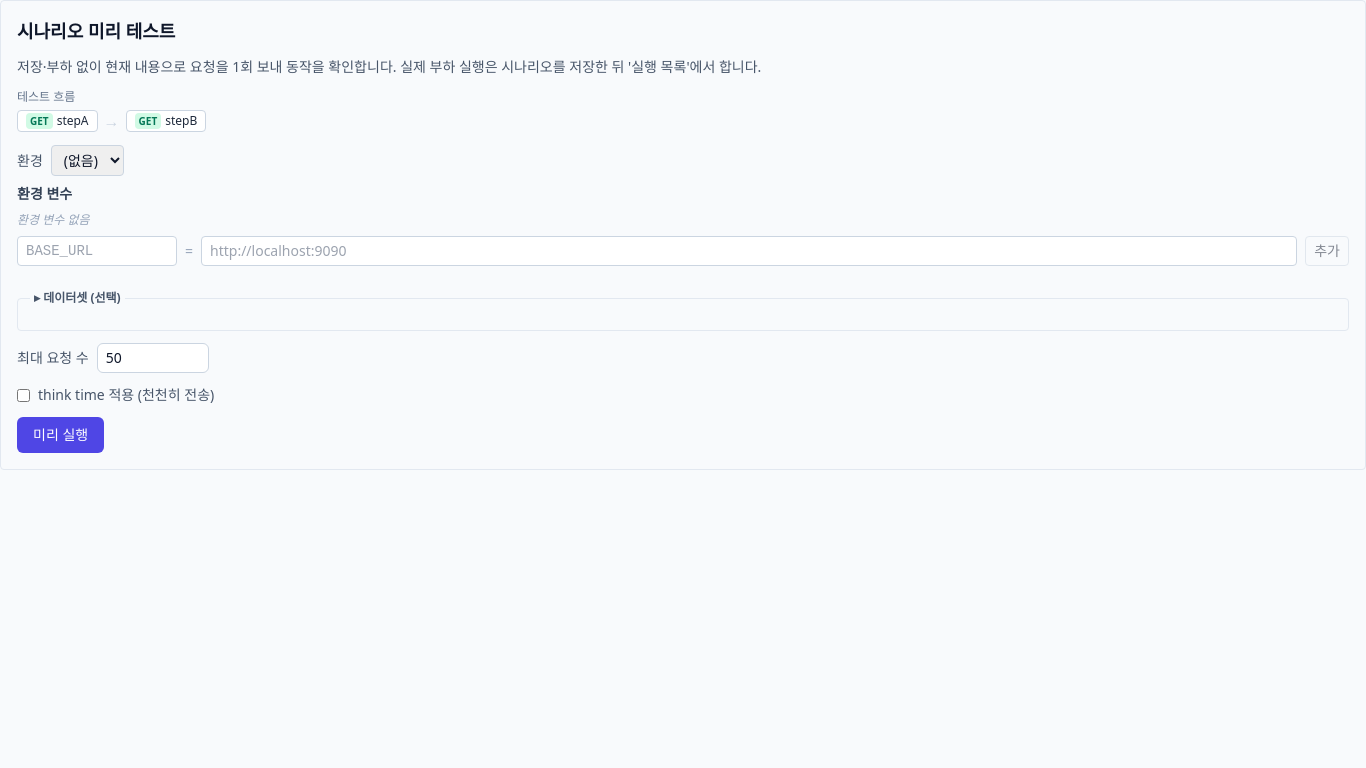
Test case: TestRunSection 데이터셋 섹션 (R11/R14/R15) › R15: 예상 요청 수가 최대 요청 수를 넘으면 힌트 표시, 넘지 않으면 미표시
This screenshot has width=1366, height=768.
Click the button "▸ 데이터셋 (선택)": click(77, 298) top-left (34, 290), bottom-right (121, 306)
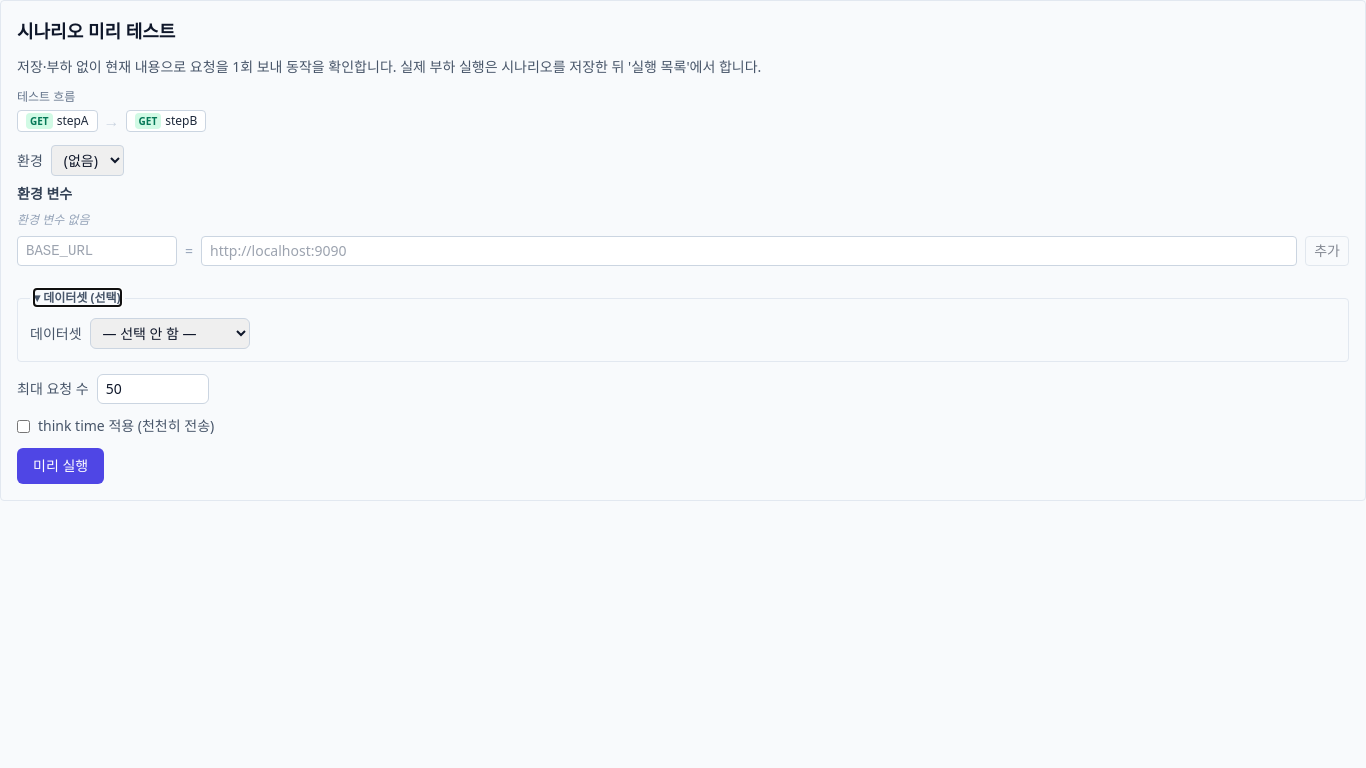
Select "users" in the dropdown named "데이터셋": (170, 334) top-left (90, 318), bottom-right (250, 349)
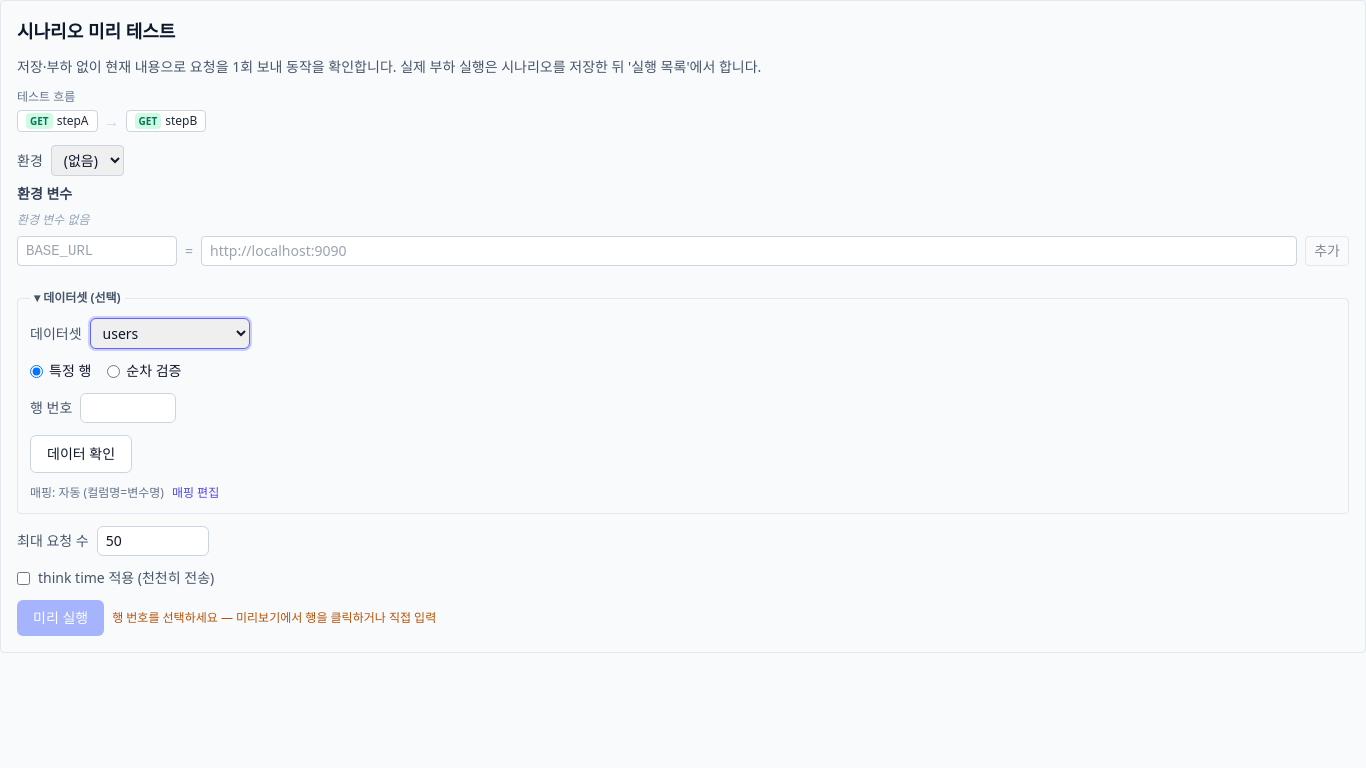
Click the radio button labelled "순차 검증": click(114, 371) top-left (107, 364), bottom-right (120, 378)
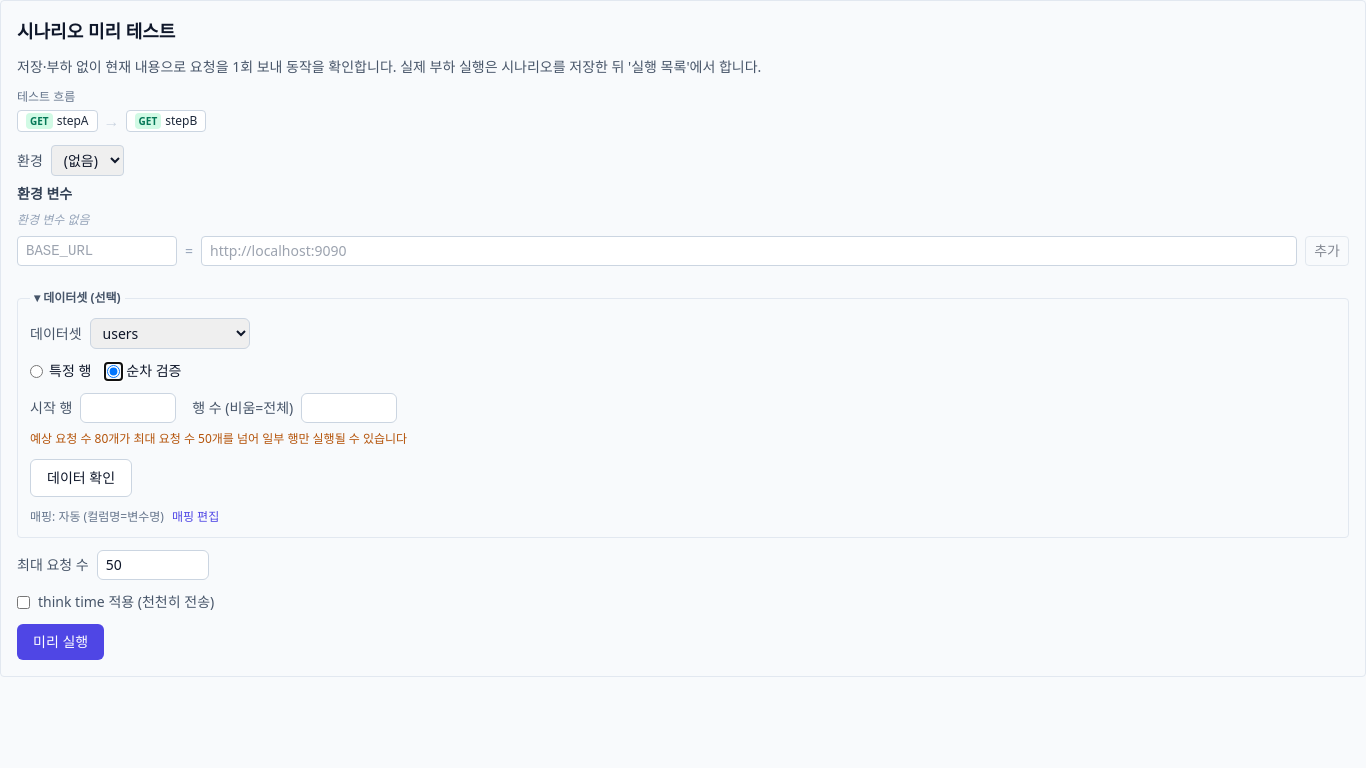
In the number field labelled "행 수 (비움=전체)": (349, 408) top-left (301, 393), bottom-right (397, 423), type "10"
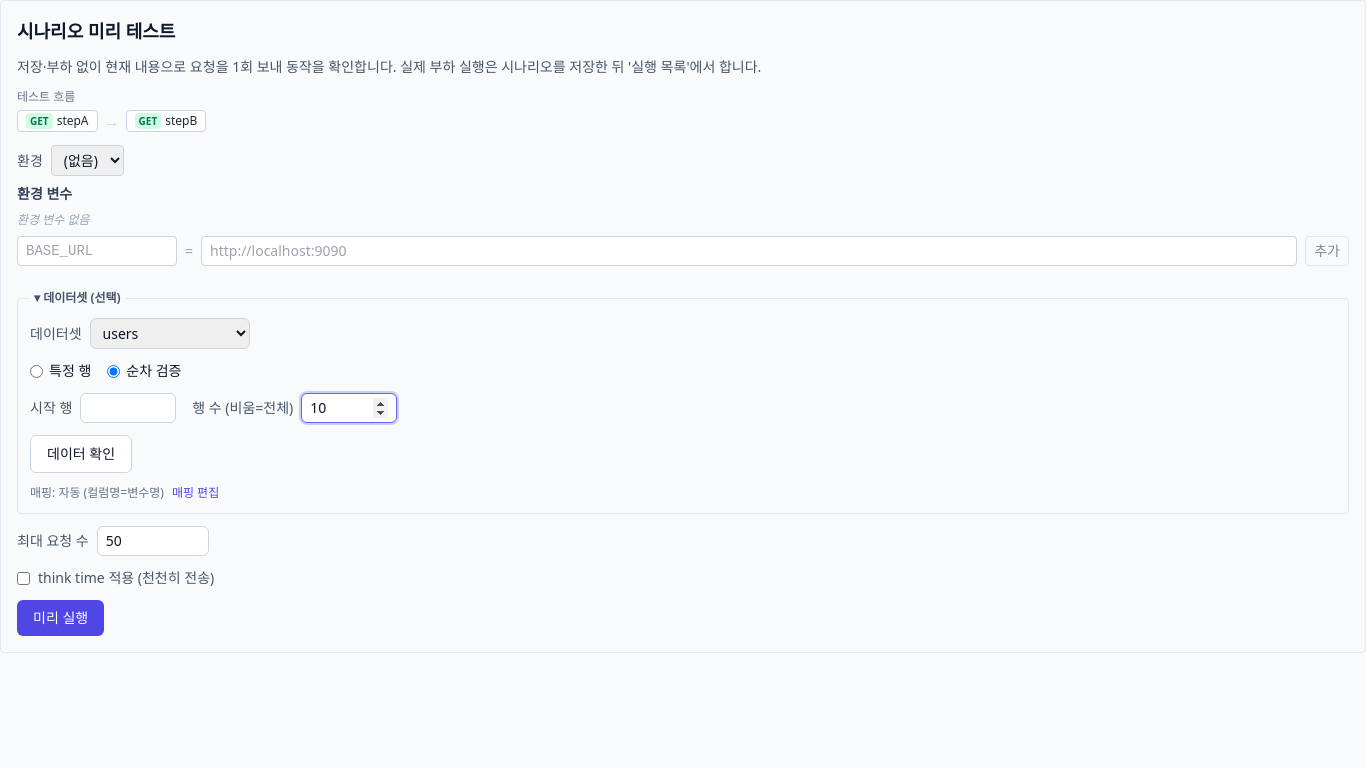
Expected: the text "예상 요청 수" is gone
